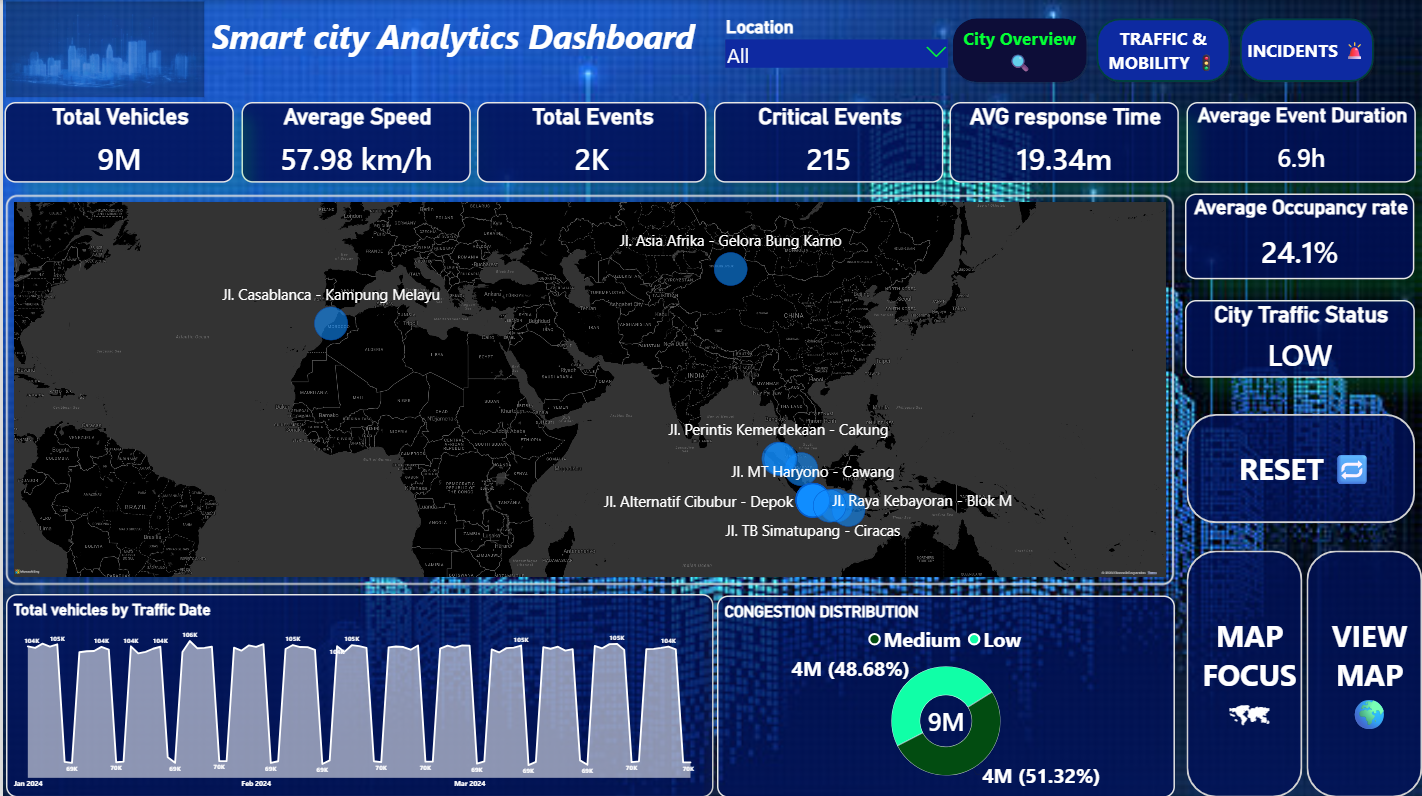

The dashboard page shown, as its layout file describes it:
{"tool":"powerbi","page":{"name":"City Overview 🔍","canvas":[3840,2160],"ordinal":0},"visuals":[{"type":"textbox","title":"Smart city Analytics Dashboard","box":[9.1,0,3829.4,231.7],"z":6000},{"type":"cardVisual","title":"Average Speed ","fields":{"Data":["Measure.Average Speed"]},"box":[643.1,277.1,620,218],"z":7000},{"type":"cardVisual","title":"Total Vehicles","fields":{"Data":["Measure.Total vehicles"]},"box":[4.5,277.1,620,218],"z":8000},{"type":"cardVisual","title":"Total Events","fields":{"Data":["Measure.Total events"]},"box":[1281.7,277.1,620,218],"z":9000},{"type":"cardVisual","title":"Critical Events","fields":{"Data":["Measure.Critical events"]},"box":[1920.3,277.1,620,218],"z":10000},{"type":"cardVisual","title":"Average Event Duration","fields":{"Data":["Measure.Event Duration"]},"box":[3197.5,277.1,620,218],"z":11000},{"type":"cardVisual","title":"AVG response Time","fields":{"Data":["Measure.AED1"]},"box":[2558.9,277.1,620,218],"z":12000},{"type":"cardVisual","title":"City Traffic Status","fields":{"Data":["Measure.City Traffic Status"]},"box":[3197.1,809.1,621,209.9],"z":13000},{"type":"cardVisual","title":"Average Occupancy rate","fields":{"Data":["Measure.AVG Occupency rate"]},"box":[3197.1,524.8,620,232.1],"z":14000},{"type":"map","fields":{"Category":["Locations.Location"],"Size":["Measure.Total vehicles"]},"box":[9.1,526.9,3157.1,1053.9],"z":15000},{"type":"lineChart","title":"Total vehicles by Traffic Date","fields":{"Y":["Measure.Total vehicles"],"Category":["traffic_sensor_data.Traffic Date"]},"box":[10,1607.5,1912.5,550],"z":16000},{"type":"donutChart","title":"CONGESTION DISTRIBUTION","fields":{"Category":["traffic_sensor_data.congestion_level"],"Y":["Measure.Total vehicles"]},"box":[1928.7,1609.5,1237.7,546.7],"z":18000},{"type":"pageNavigator","box":[2557.5,40.9,1158.4,190.8],"z":19000},{"type":"actionButton","box":[3198,1490,313.4,667.8],"z":20000},{"type":"actionButton","box":[3198,1117.5,617.8,295.3],"z":21000},{"type":"actionButton","box":[3525.1,1490,313.4,667.8],"z":22000},{"type":"image","box":[9.1,4.5,536,258.9],"z":23000},{"type":"slicer","fields":{"Values":["Locations.Location"]},"box":[1944.7,44.5,613.6,138.6],"z":24000}]}

Visuals, with their boxes in screenshot pixels (x1, y1, x2, y2), scaled from the page's 3840x2160 canvas onto the 1422x796 screenshot:
"Smart city Analytics Dashboard" textbox: [x1=3, y1=0, x2=1421, y2=85]
"Average Speed " cardVisual: [x1=238, y1=102, x2=468, y2=182]
"Total Vehicles" cardVisual: [x1=2, y1=102, x2=231, y2=182]
"Total Events" cardVisual: [x1=475, y1=102, x2=704, y2=182]
"Critical Events" cardVisual: [x1=711, y1=102, x2=941, y2=182]
"Average Event Duration" cardVisual: [x1=1184, y1=102, x2=1414, y2=182]
"AVG response Time" cardVisual: [x1=948, y1=102, x2=1177, y2=182]
"City Traffic Status" cardVisual: [x1=1184, y1=298, x2=1414, y2=376]
"Average Occupancy rate" cardVisual: [x1=1184, y1=193, x2=1414, y2=279]
map - Locations.Location x Measure.Total vehicles: [x1=3, y1=194, x2=1172, y2=583]
"Total vehicles by Traffic Date" lineChart: [x1=4, y1=592, x2=712, y2=795]
"CONGESTION DISTRIBUTION" donutChart: [x1=714, y1=593, x2=1173, y2=795]
pageNavigator: [x1=947, y1=15, x2=1376, y2=85]
actionButton: [x1=1184, y1=549, x2=1300, y2=795]
actionButton: [x1=1184, y1=412, x2=1413, y2=521]
actionButton: [x1=1305, y1=549, x2=1421, y2=795]
image: [x1=3, y1=2, x2=202, y2=97]
slicer - Locations.Location: [x1=720, y1=16, x2=947, y2=67]
